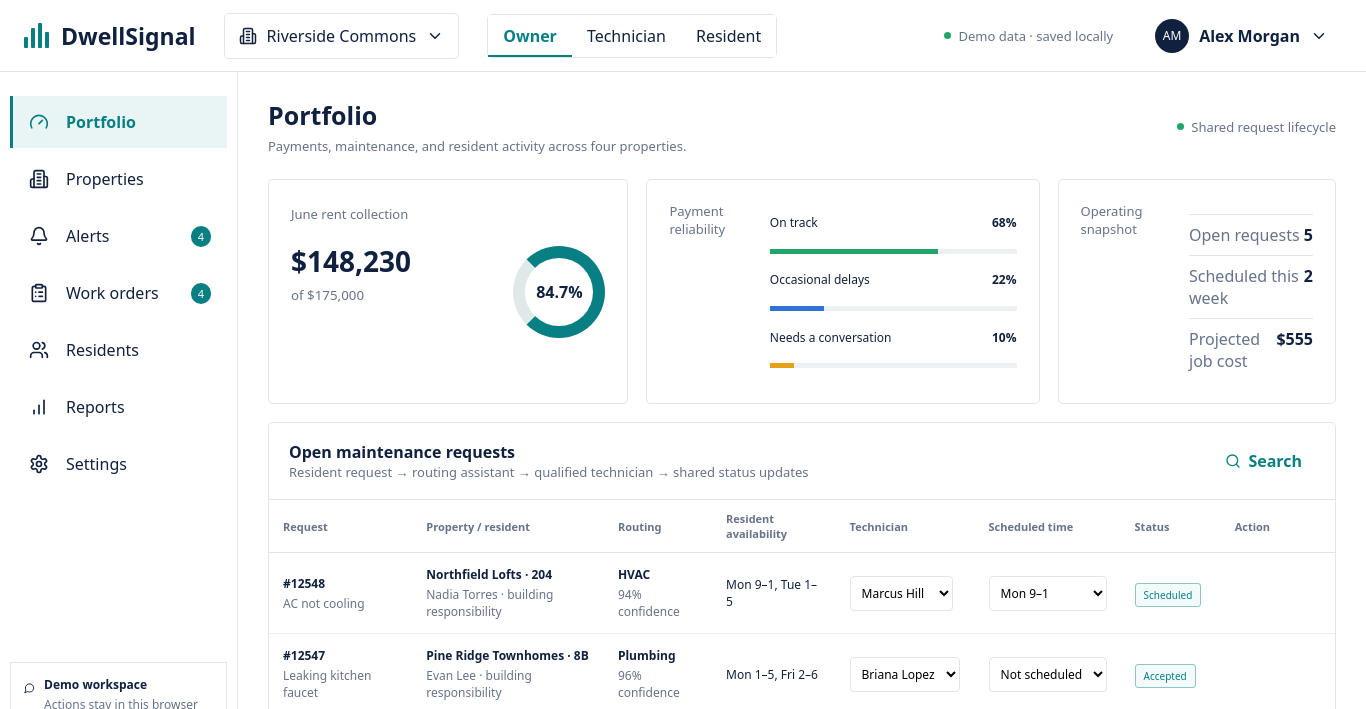
it: DwellSignal › classifies a resident request as they type
The image size is (1366, 709).
Click the button "resident".
click(729, 36)  # box [681,14,776,56]
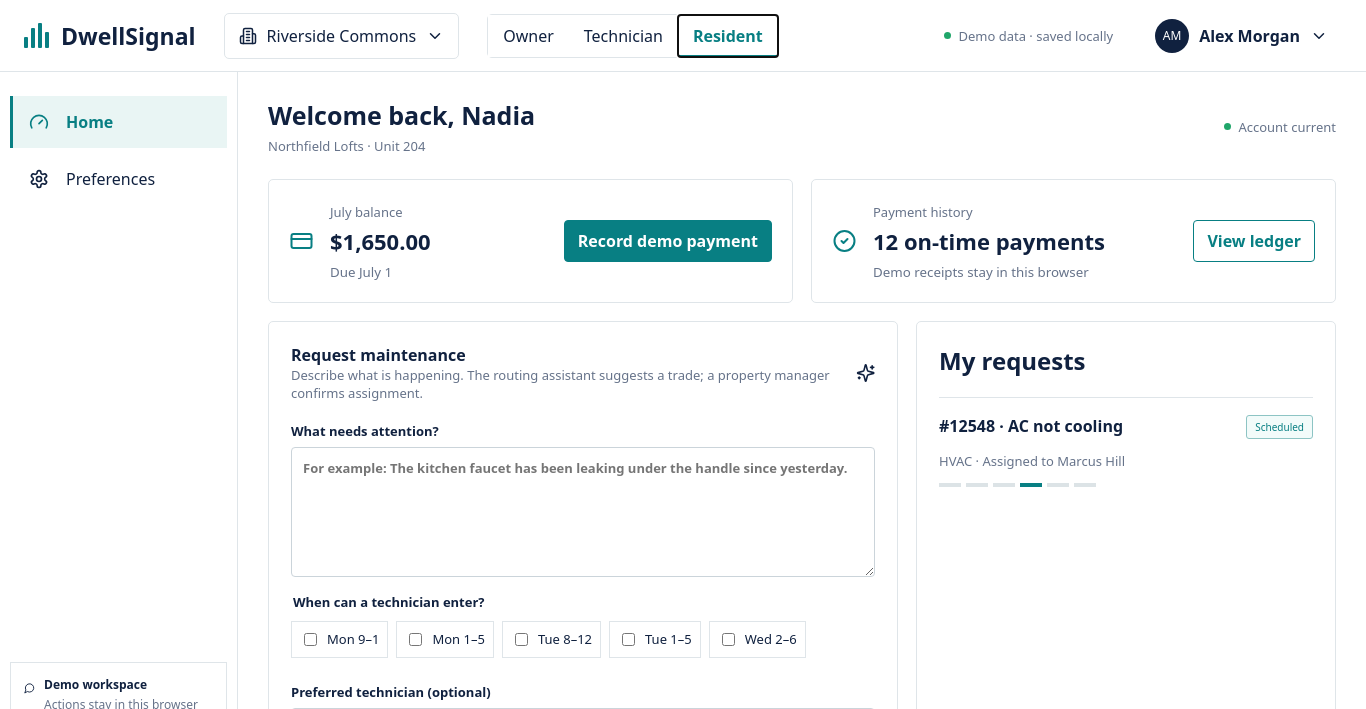
Type "The kitchen faucet is leaking under the handle." into the text box labelled "What needs attention?".
click(583, 512); type("The kitchen faucet is leaking under the handle.")  # box [291,447,875,577]
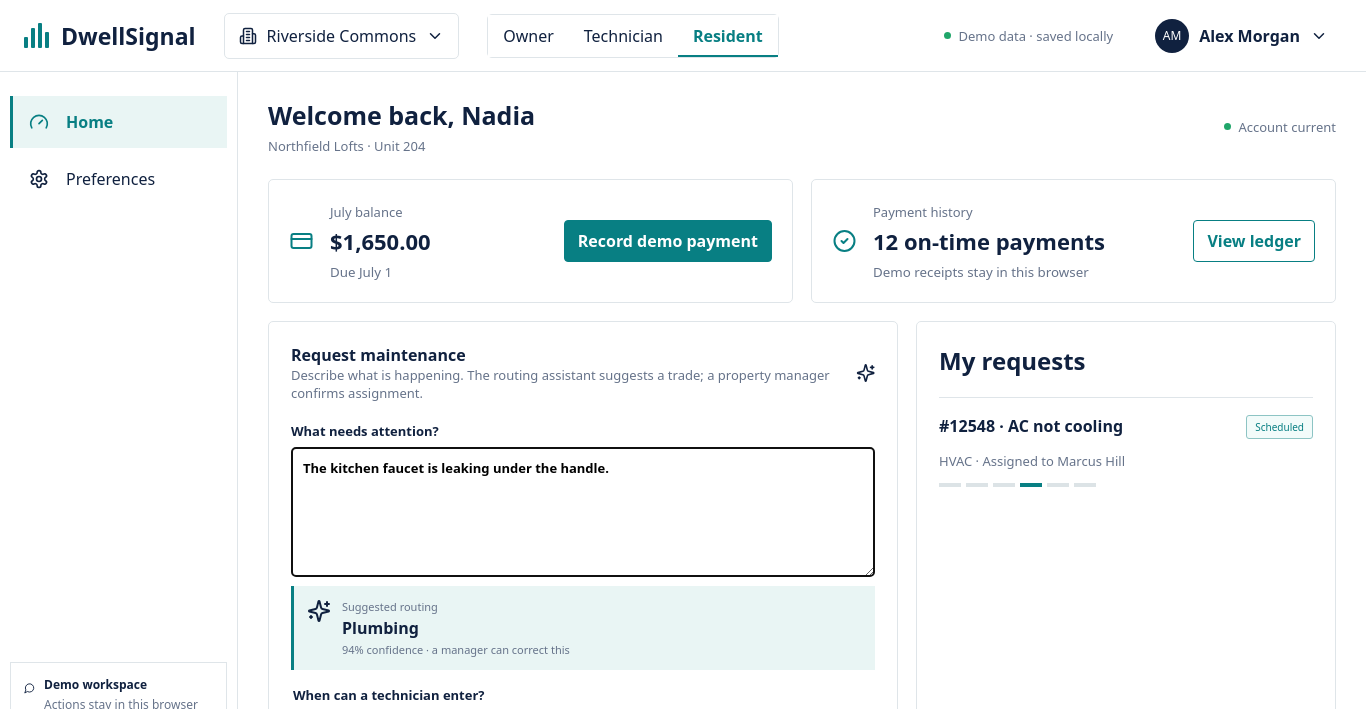
Expected: the text "Plumbing" is shown, [342,617,419,639]
Expected: the text "94% confidence · a manager can correct this" is shown, [342,642,570,657]
